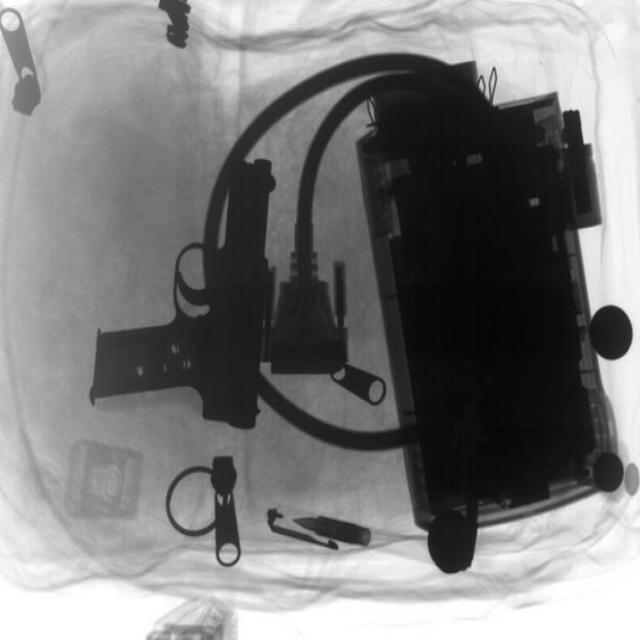GUN: (83, 155, 286, 437)
